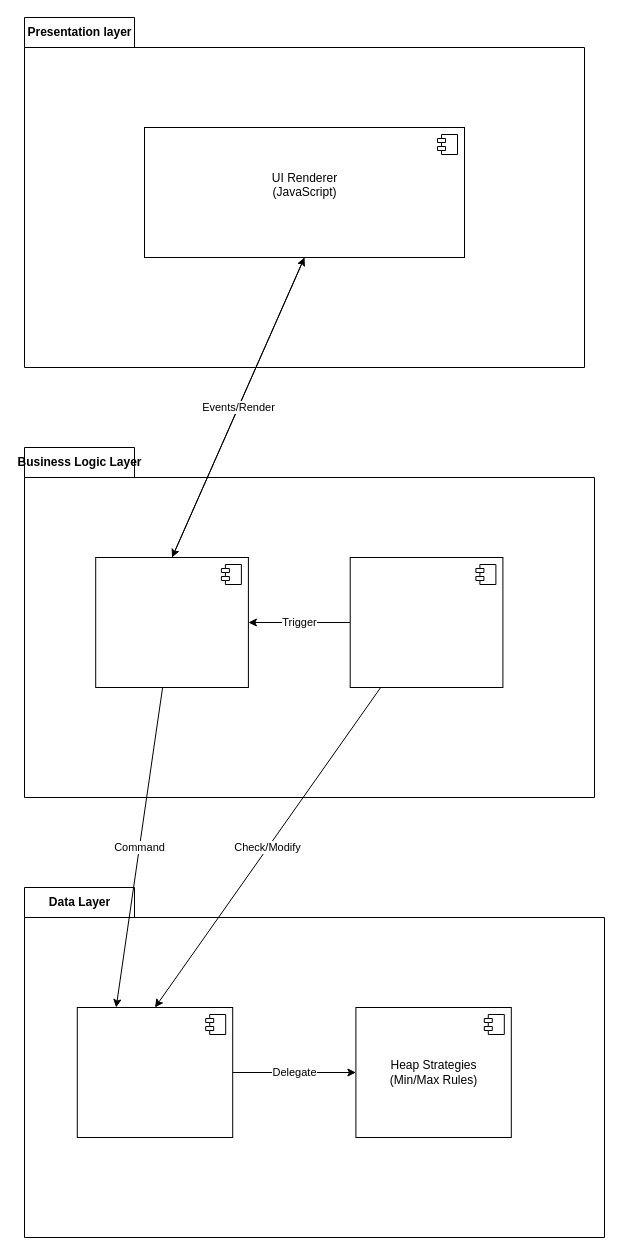
The diagram is 622 pixels wide and 1255 high, and some of its shapes have lost their labels. The centre of each missing label's shape, as x and y in pixels:
"Computer (Decision Logic)" goes at [426,622].
"Game Presenter (Main Orchestrator)" goes at [171,622].
"Heap Model (Logical State)" goes at [154,1072].
